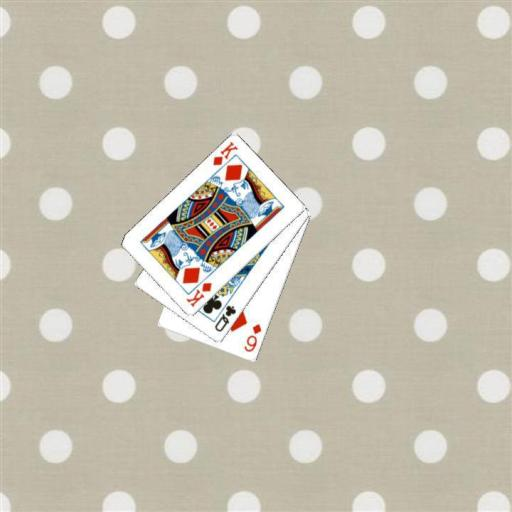card-corner: (211, 302, 238, 334), (183, 280, 213, 308), (210, 139, 240, 167), (241, 321, 263, 353)
